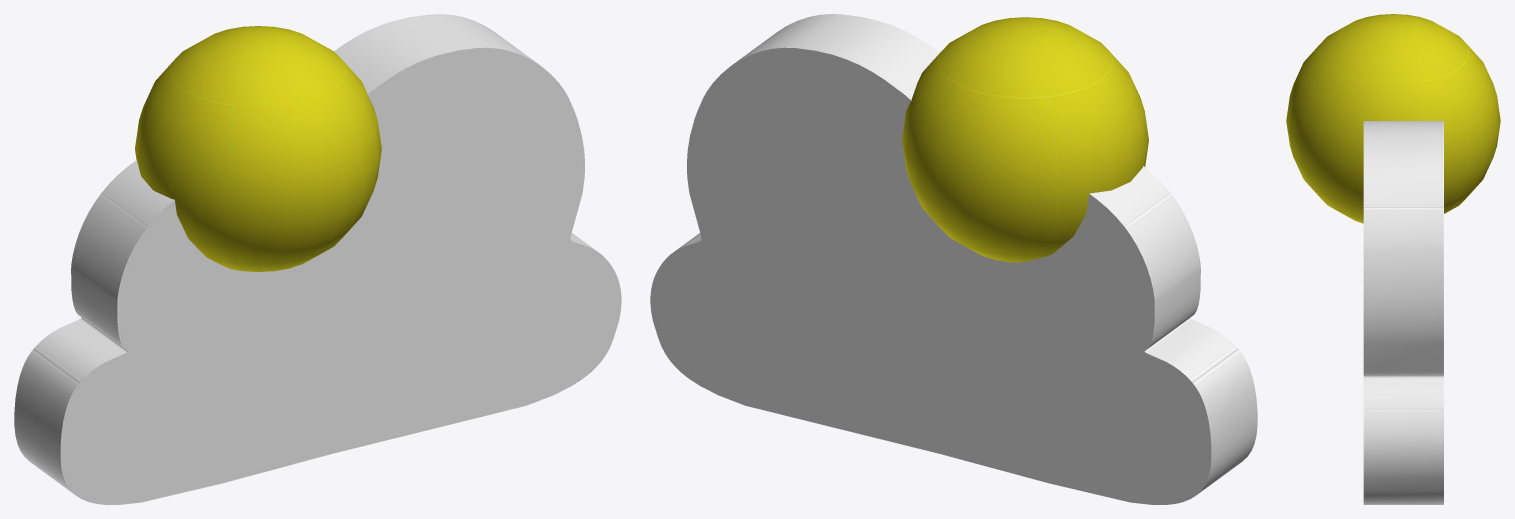
The model's file is partlycloudy.glb.
The picture shows the model from 3 angles, left to right: view 1: azimuth 30°, elevation 25°; view 2: azimuth 150°, elevation 25°; view 3: azimuth 270°, elevation 25°; orthographic projection. The views are drawn at different scales.
Parts seen in each view (by area): view 1: cloud, sun_3; view 2: cloud, sun_3; view 3: cloud, sun_3.
Boxes of the visible parts, bbox=[...] form: cloud: bbox=[14, 14, 621, 504]; sun_3: bbox=[135, 26, 381, 271]; cloud: bbox=[650, 14, 1257, 504]; sun_3: bbox=[902, 17, 1148, 262]; cloud: bbox=[1363, 121, 1443, 504]; sun_3: bbox=[1286, 14, 1500, 223].
Size of the model in its own units: 22.86 by 16.39 by 8.72.
Materials: 2 (2 with a texture image).
